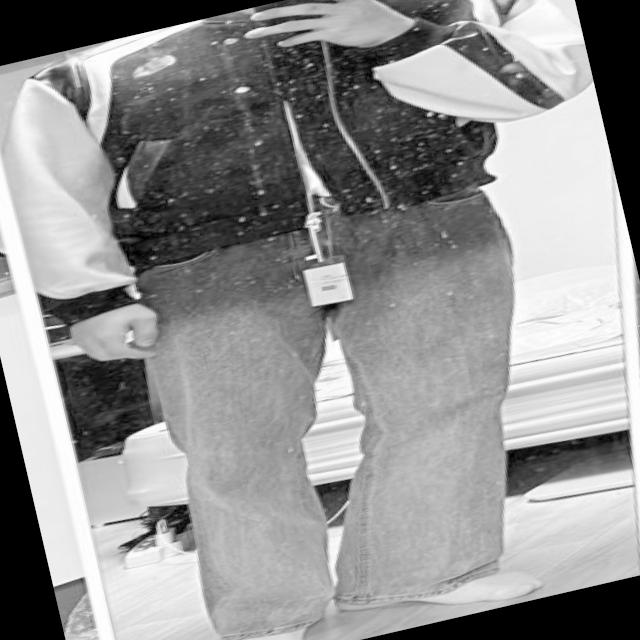denimpants: (113, 178, 580, 640)
jacket: (0, 0, 620, 332)
